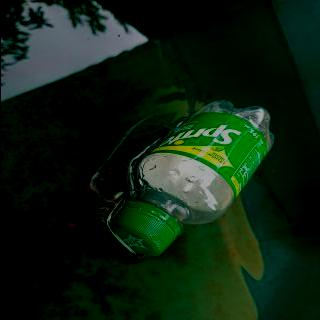bottle: (104, 100, 277, 258)
